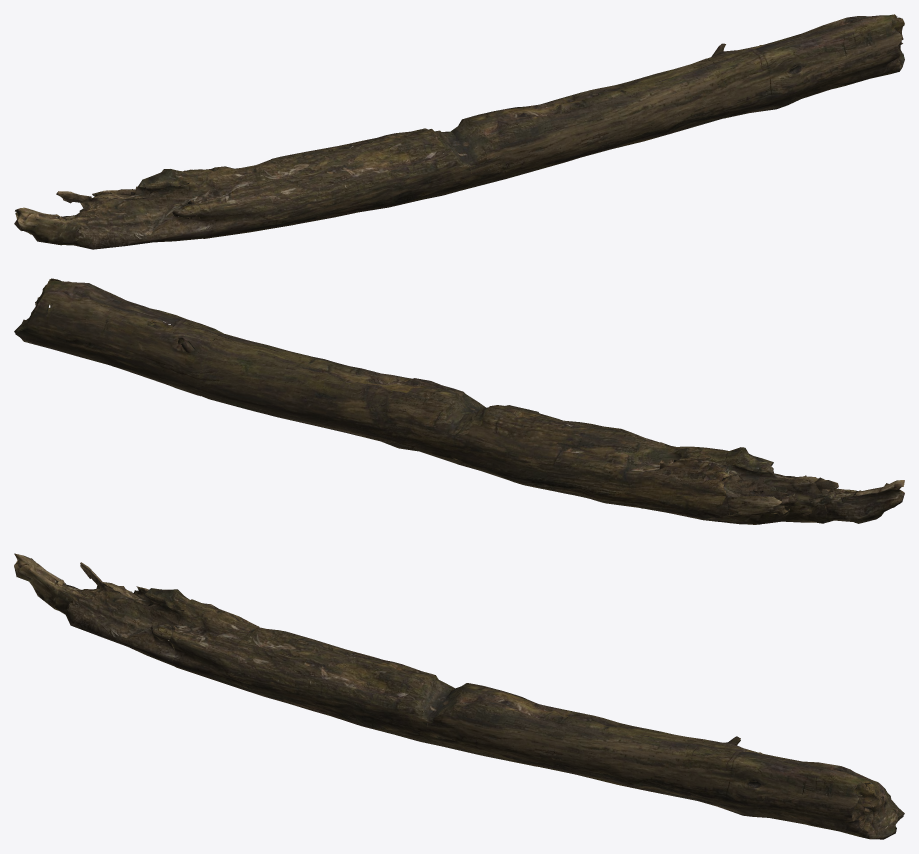
The model's file is tronco_fino.glb.
3 views of the same model, one above another, from view 1: azimuth 30°, elevation 25°; view 2: azimuth 150°, elevation 25°; view 3: azimuth 330°, elevation 25° (orthographic).
Parts seen in each view (by area): view 1: tronco_fino; view 2: tronco_fino; view 3: tronco_fino.
Boxes of the visible parts, x1,y1,x2,y2 form: tronco_fino: [14, 14, 904, 249]; tronco_fino: [14, 278, 904, 524]; tronco_fino: [14, 553, 904, 839].
Bounding box in the file's own units: 3.05 × 0.2897 × 0.275.
1 material, 1 textured.
